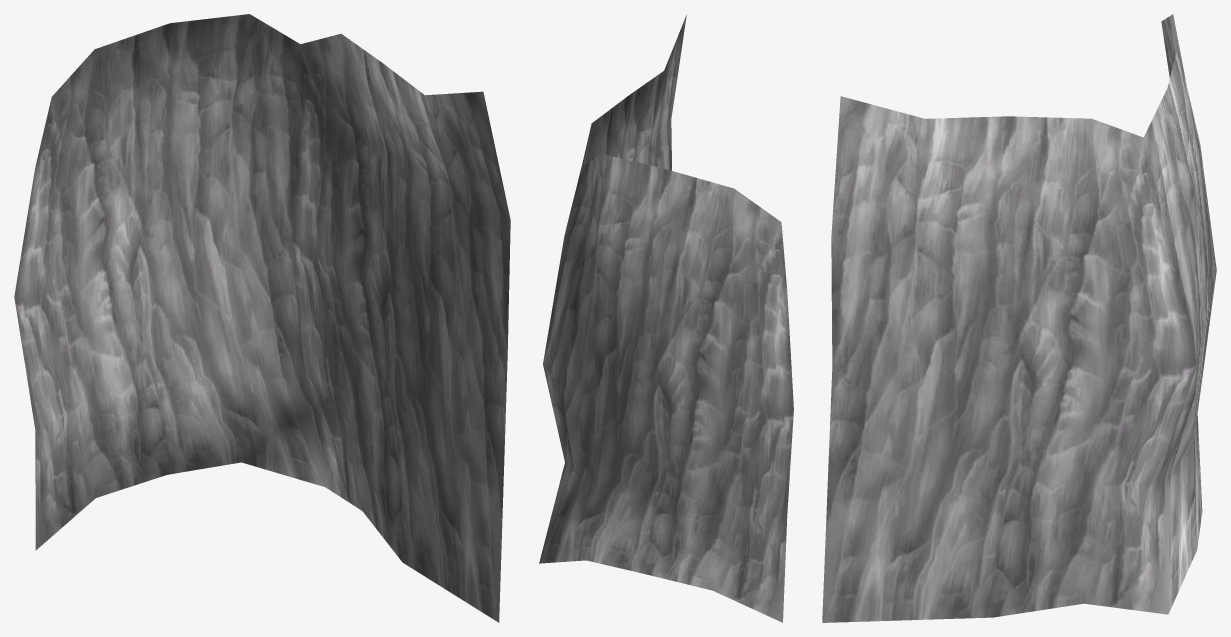
Rendered from SWORDLIGHT20_PS-AREA03_174.fbx.
The picture shows the model from 3 angles, left to right: view 1: azimuth 30°, elevation 25°; view 2: azimuth 150°, elevation 25°; view 3: azimuth 270°, elevation 25°; orthographic projection. The views are drawn at different scales.
Visible parts, largest first — view 1: SWORDLIGHT20_PS-AREA03_174; view 2: SWORDLIGHT20_PS-AREA03_174; view 3: SWORDLIGHT20_PS-AREA03_174.
Part boxes in pixels (x1=…): SWORDLIGHT20_PS-AREA03_174: x1=14, y1=14, x2=510, y2=622; SWORDLIGHT20_PS-AREA03_174: x1=539, y1=15, x2=793, y2=622; SWORDLIGHT20_PS-AREA03_174: x1=822, y1=14, x2=1216, y2=622.
Bounding box in the file's own units: 63701 × 100332 × 68503.
Materials: 1 (1 with a texture image).
